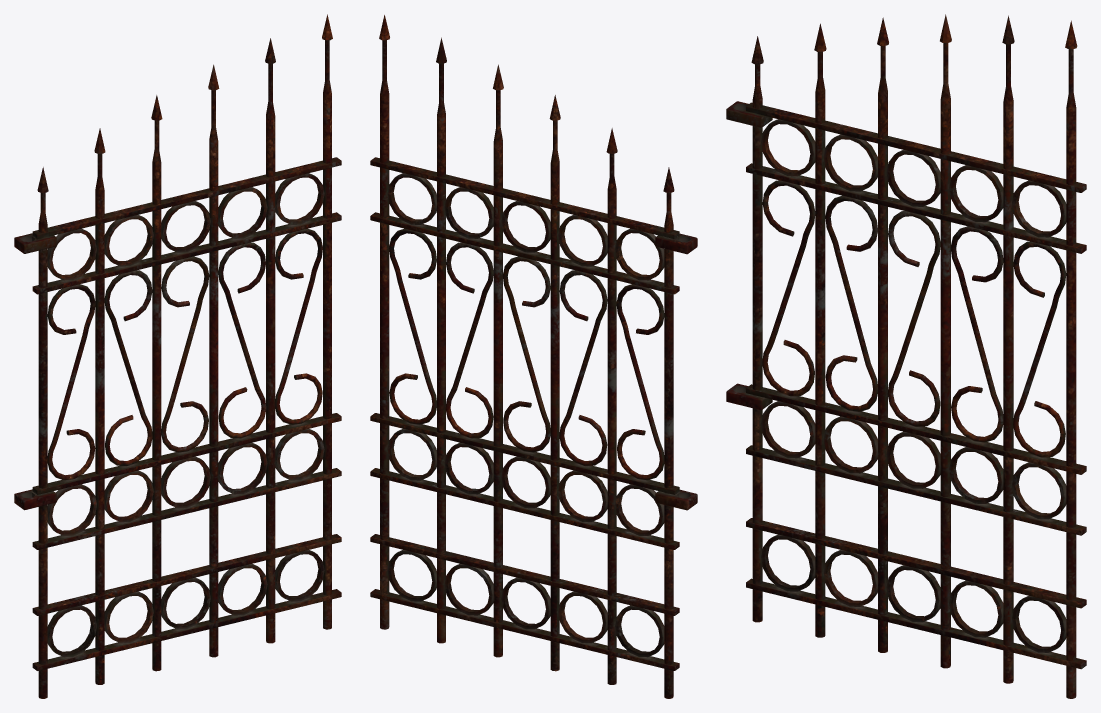
The model's file is SM_fence_07.fbx.
3 views of the same model, side by side, from view 1: azimuth 30°, elevation 25°; view 2: azimuth 150°, elevation 25°; view 3: azimuth 330°, elevation 25° (orthographic). The views are drawn at different scales.
Visible parts, largest first — view 1: SM_fence_07; view 2: SM_fence_07; view 3: SM_fence_07.
Part boxes in pixels (x1,y1,x2,y2): SM_fence_07: (14, 14, 341, 698); SM_fence_07: (370, 15, 697, 698); SM_fence_07: (726, 14, 1086, 698).
Bounding box in the file's own units: 104 × 191 × 5.86.
